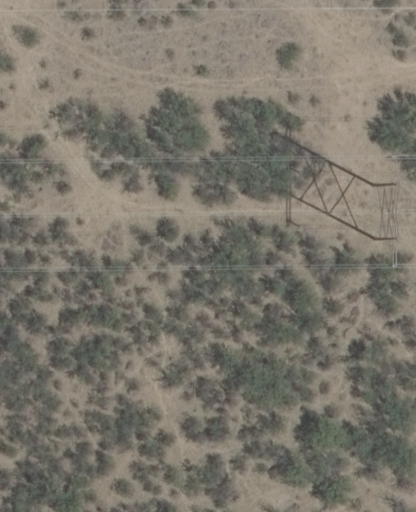TT: (278, 141, 396, 242)
